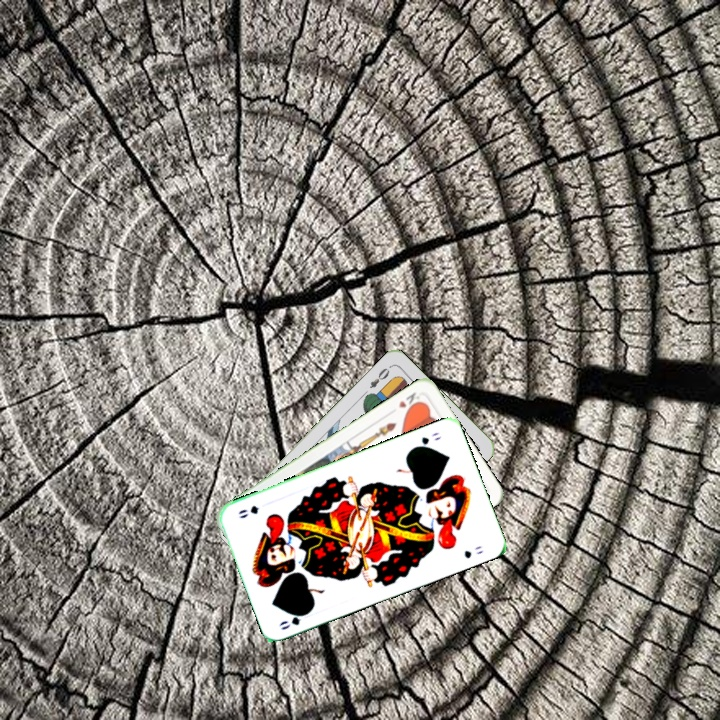EO: (365, 362, 394, 391)
GO: (275, 607, 313, 632), (409, 428, 444, 452)
HK: (394, 388, 424, 414)
